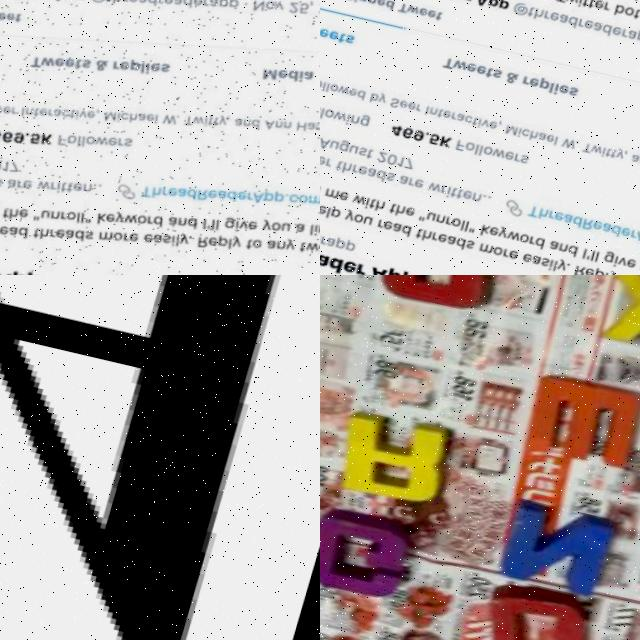0: (388, 152, 400, 164), (0, 158, 5, 172)
1: (1, 159, 12, 172), (399, 155, 407, 166)
2: (285, 0, 300, 13), (379, 150, 390, 162), (315, 1, 320, 15)
4: (392, 124, 405, 136), (0, 128, 4, 142)
5: (30, 130, 44, 144), (298, 0, 310, 14), (430, 132, 443, 144)
6: (1, 129, 16, 143), (403, 126, 416, 138)
7: (9, 159, 24, 173), (405, 156, 418, 170)
9: (13, 130, 28, 144), (414, 128, 426, 140)
A: (0, 275, 320, 640), (367, 275, 500, 315)
G: (320, 505, 423, 603)
N: (496, 495, 622, 597)
R: (330, 409, 463, 510)
U: (472, 581, 611, 640)
W: (527, 372, 640, 472)
X: (593, 275, 640, 355)
